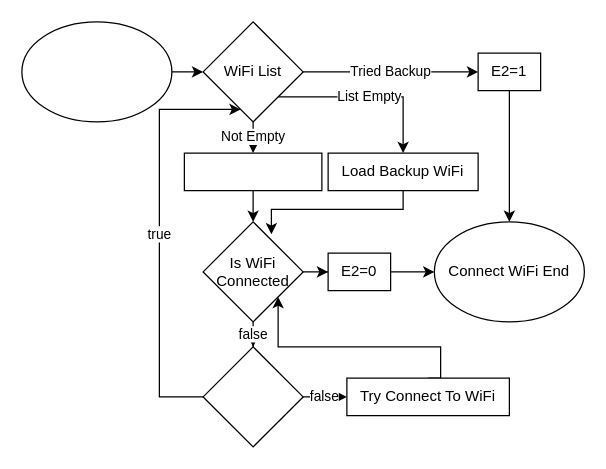
The diagram is 606 pixels wide and 469 high, and some of its shapes have lost their labels. The centre of each missing label's shape, as x and y in pixels:
"Connect WiFi Start" belongs at point (96, 71).
"Load Next WiFi" belongs at point (252, 171).
"Timeout" belongs at point (252, 396).
